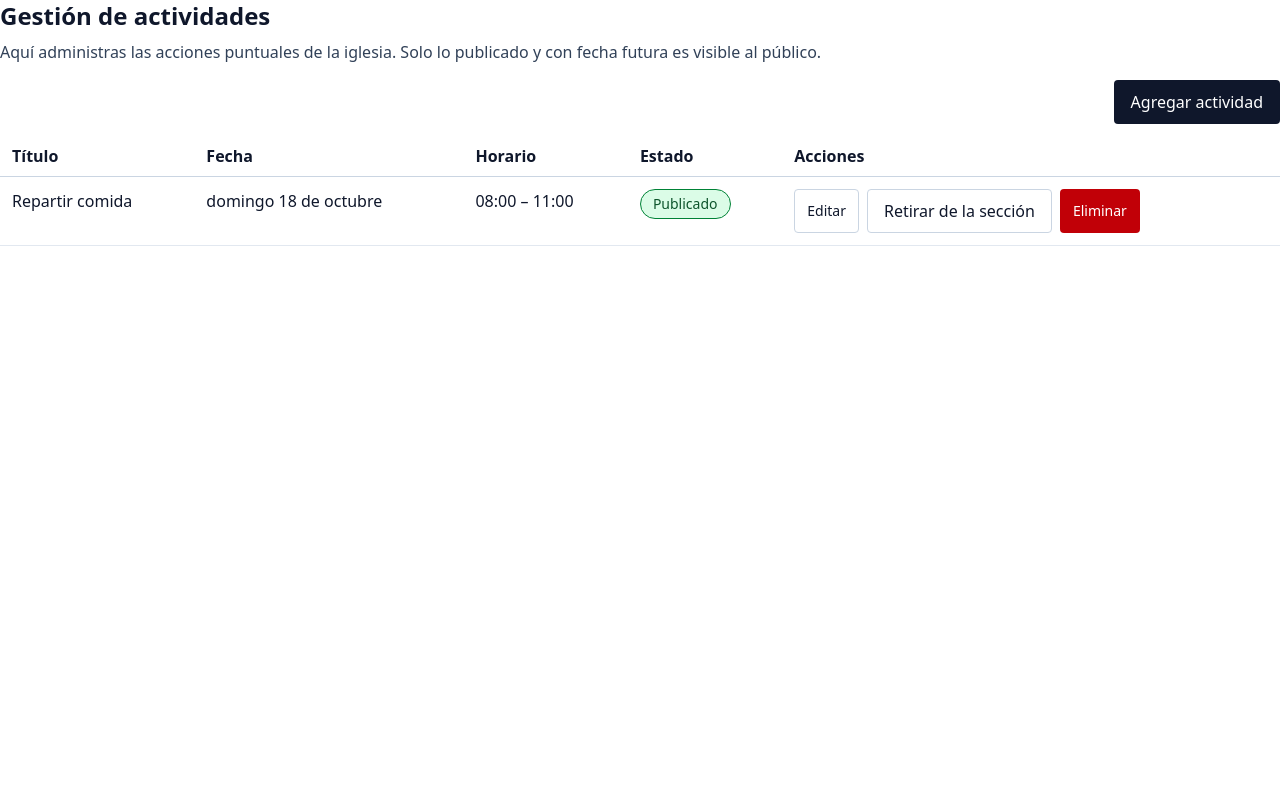
Scenario: ActivitiesList · publicar, retirar y eliminar (US4) › editar una actividad publicada avisa que el cambio ya es visible (FR-014)
Click the button "Editar": (827, 211) [794,189,859,233]
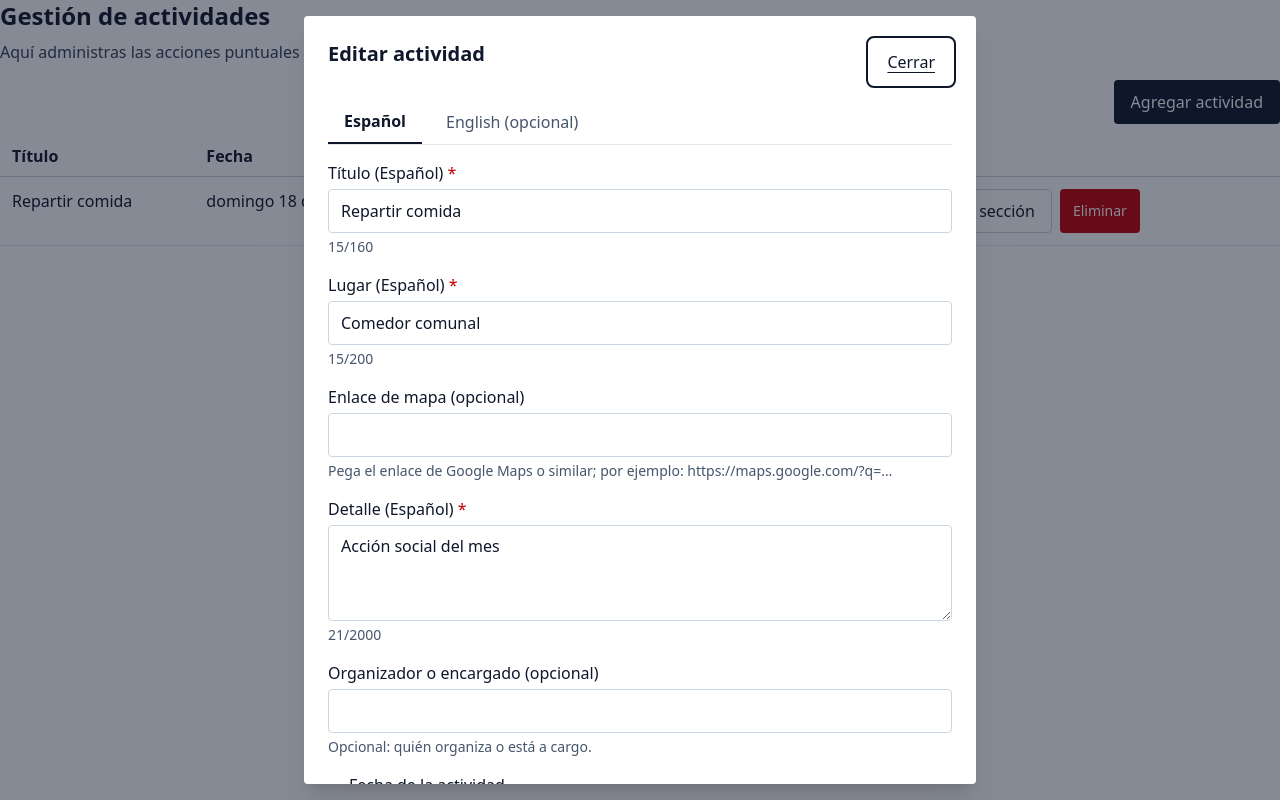
In the field labelled "Título (Español) *": (640, 211) [328,189,952,233], type " del mes"
(page scrolled)
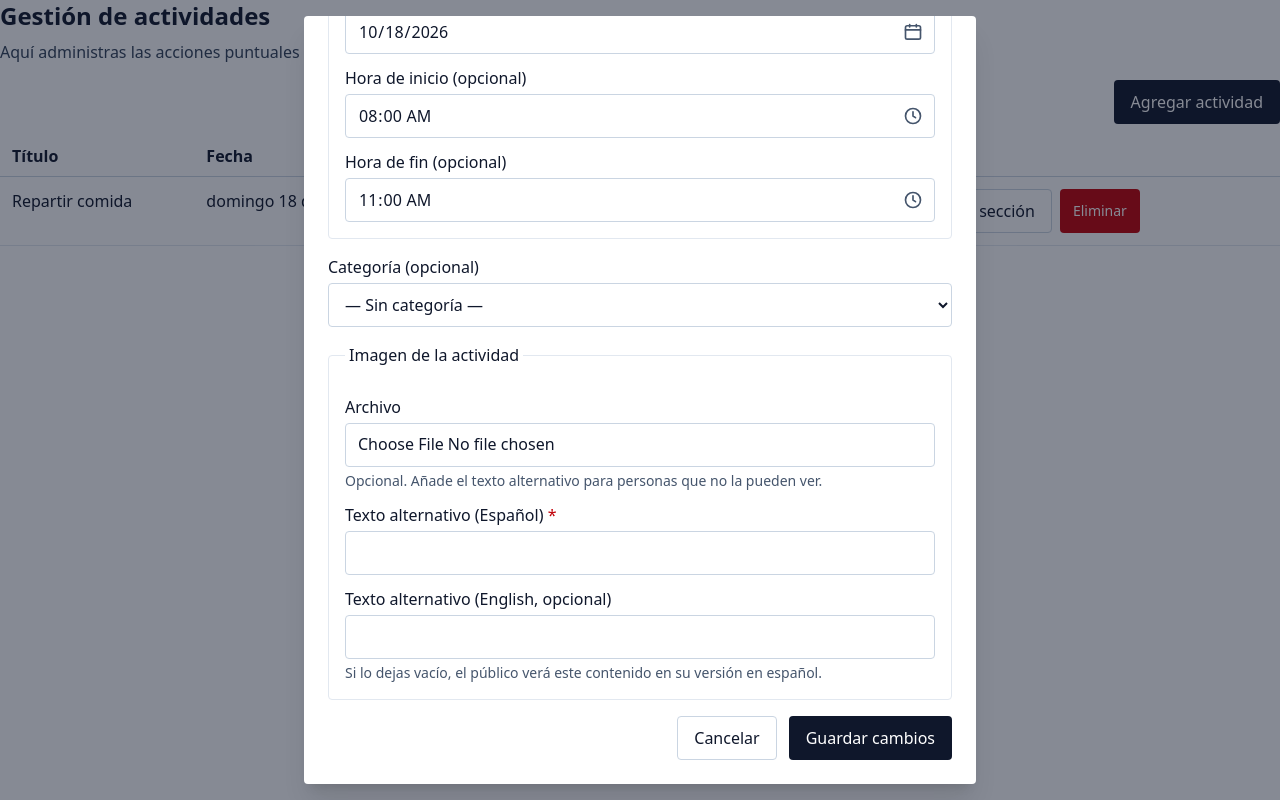
Click the button "Guardar cambios": (870, 738) [789,716,952,760]
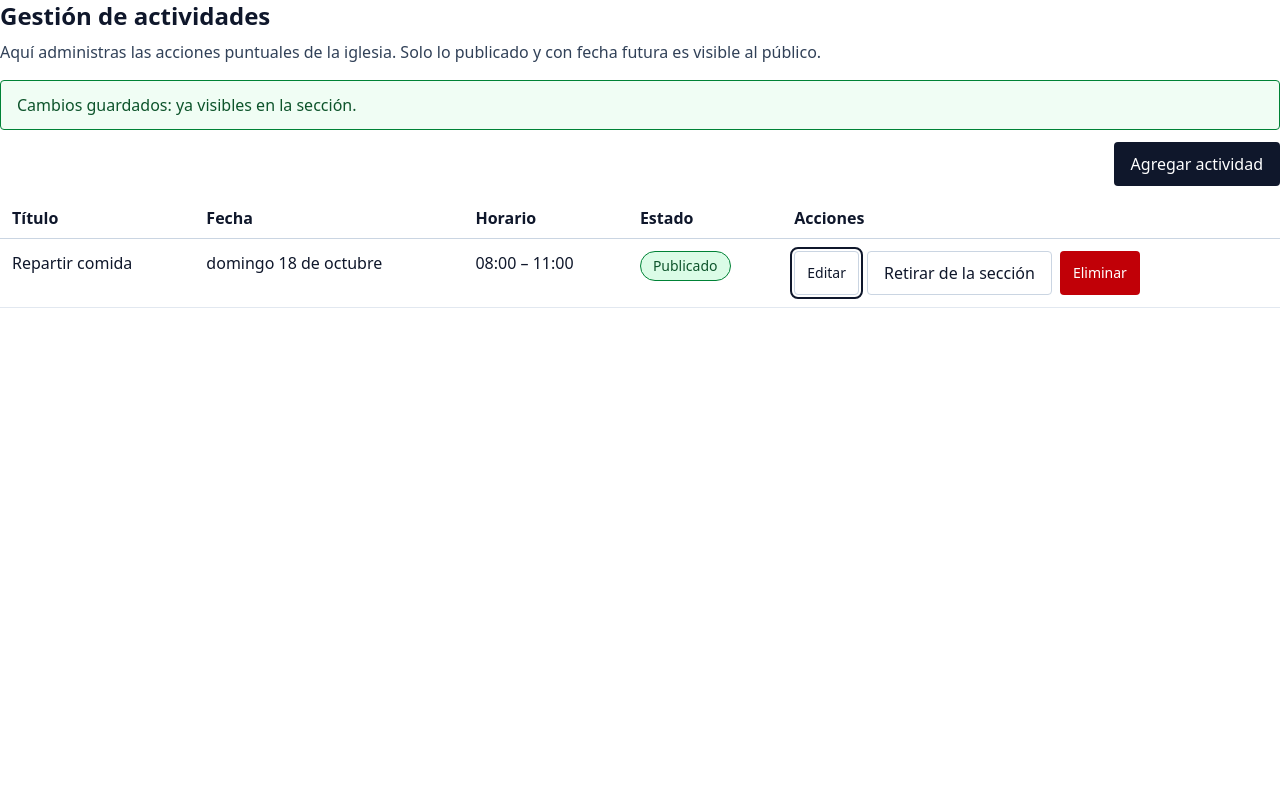
Expected: the text "Cambios guardados: ya visibles en la sección." is shown, [0,80,1279,130]
